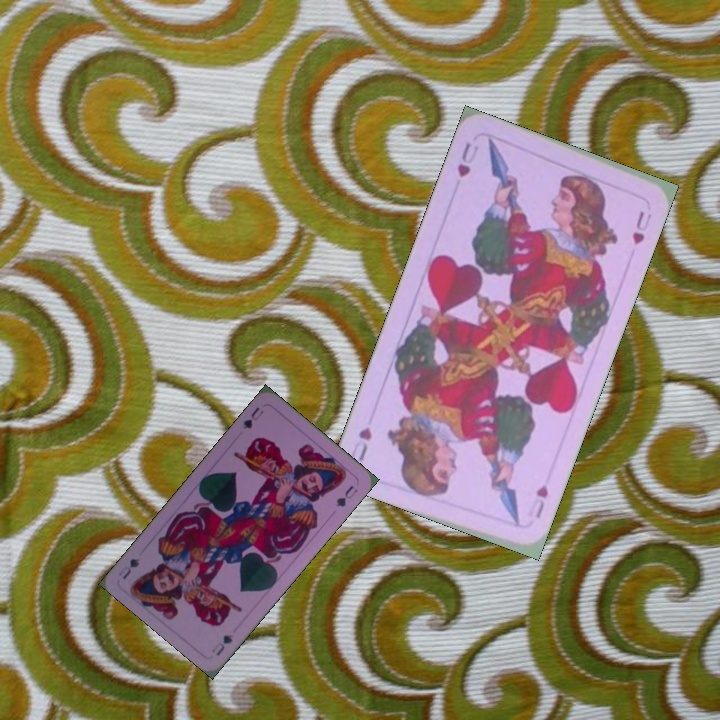GU: (207, 630, 236, 659), (239, 403, 266, 432)
HU: (453, 138, 481, 180), (524, 480, 551, 521)
